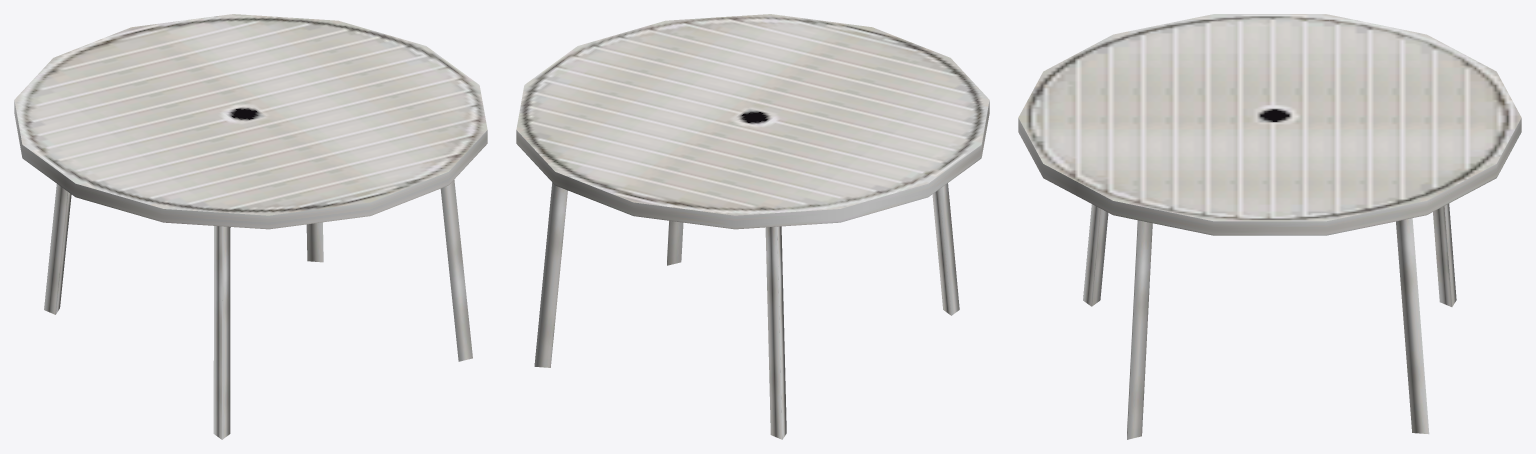
File: patio_table_default.fbx
3 views of the same model, side by side, from view 1: azimuth 30°, elevation 25°; view 2: azimuth 150°, elevation 25°; view 3: azimuth 270°, elevation 25° (orthographic). The views are drawn at different scales.
Visible parts, largest first — view 1: mesh_0, mesh_1; view 2: mesh_0, mesh_1; view 3: mesh_0, mesh_1.
Boxes of the visible parts, <box> form: mesh_0: <box>14,14,487,215</box>; mesh_1: <box>14,100,487,439</box>; mesh_0: <box>516,14,989,215</box>; mesh_1: <box>516,101,989,439</box>; mesh_0: <box>1018,14,1521,221</box>; mesh_1: <box>1018,118,1521,439</box>.
Bounding box in the file's own units: 146 × 80 × 150.
2 materials, 2 textured.
